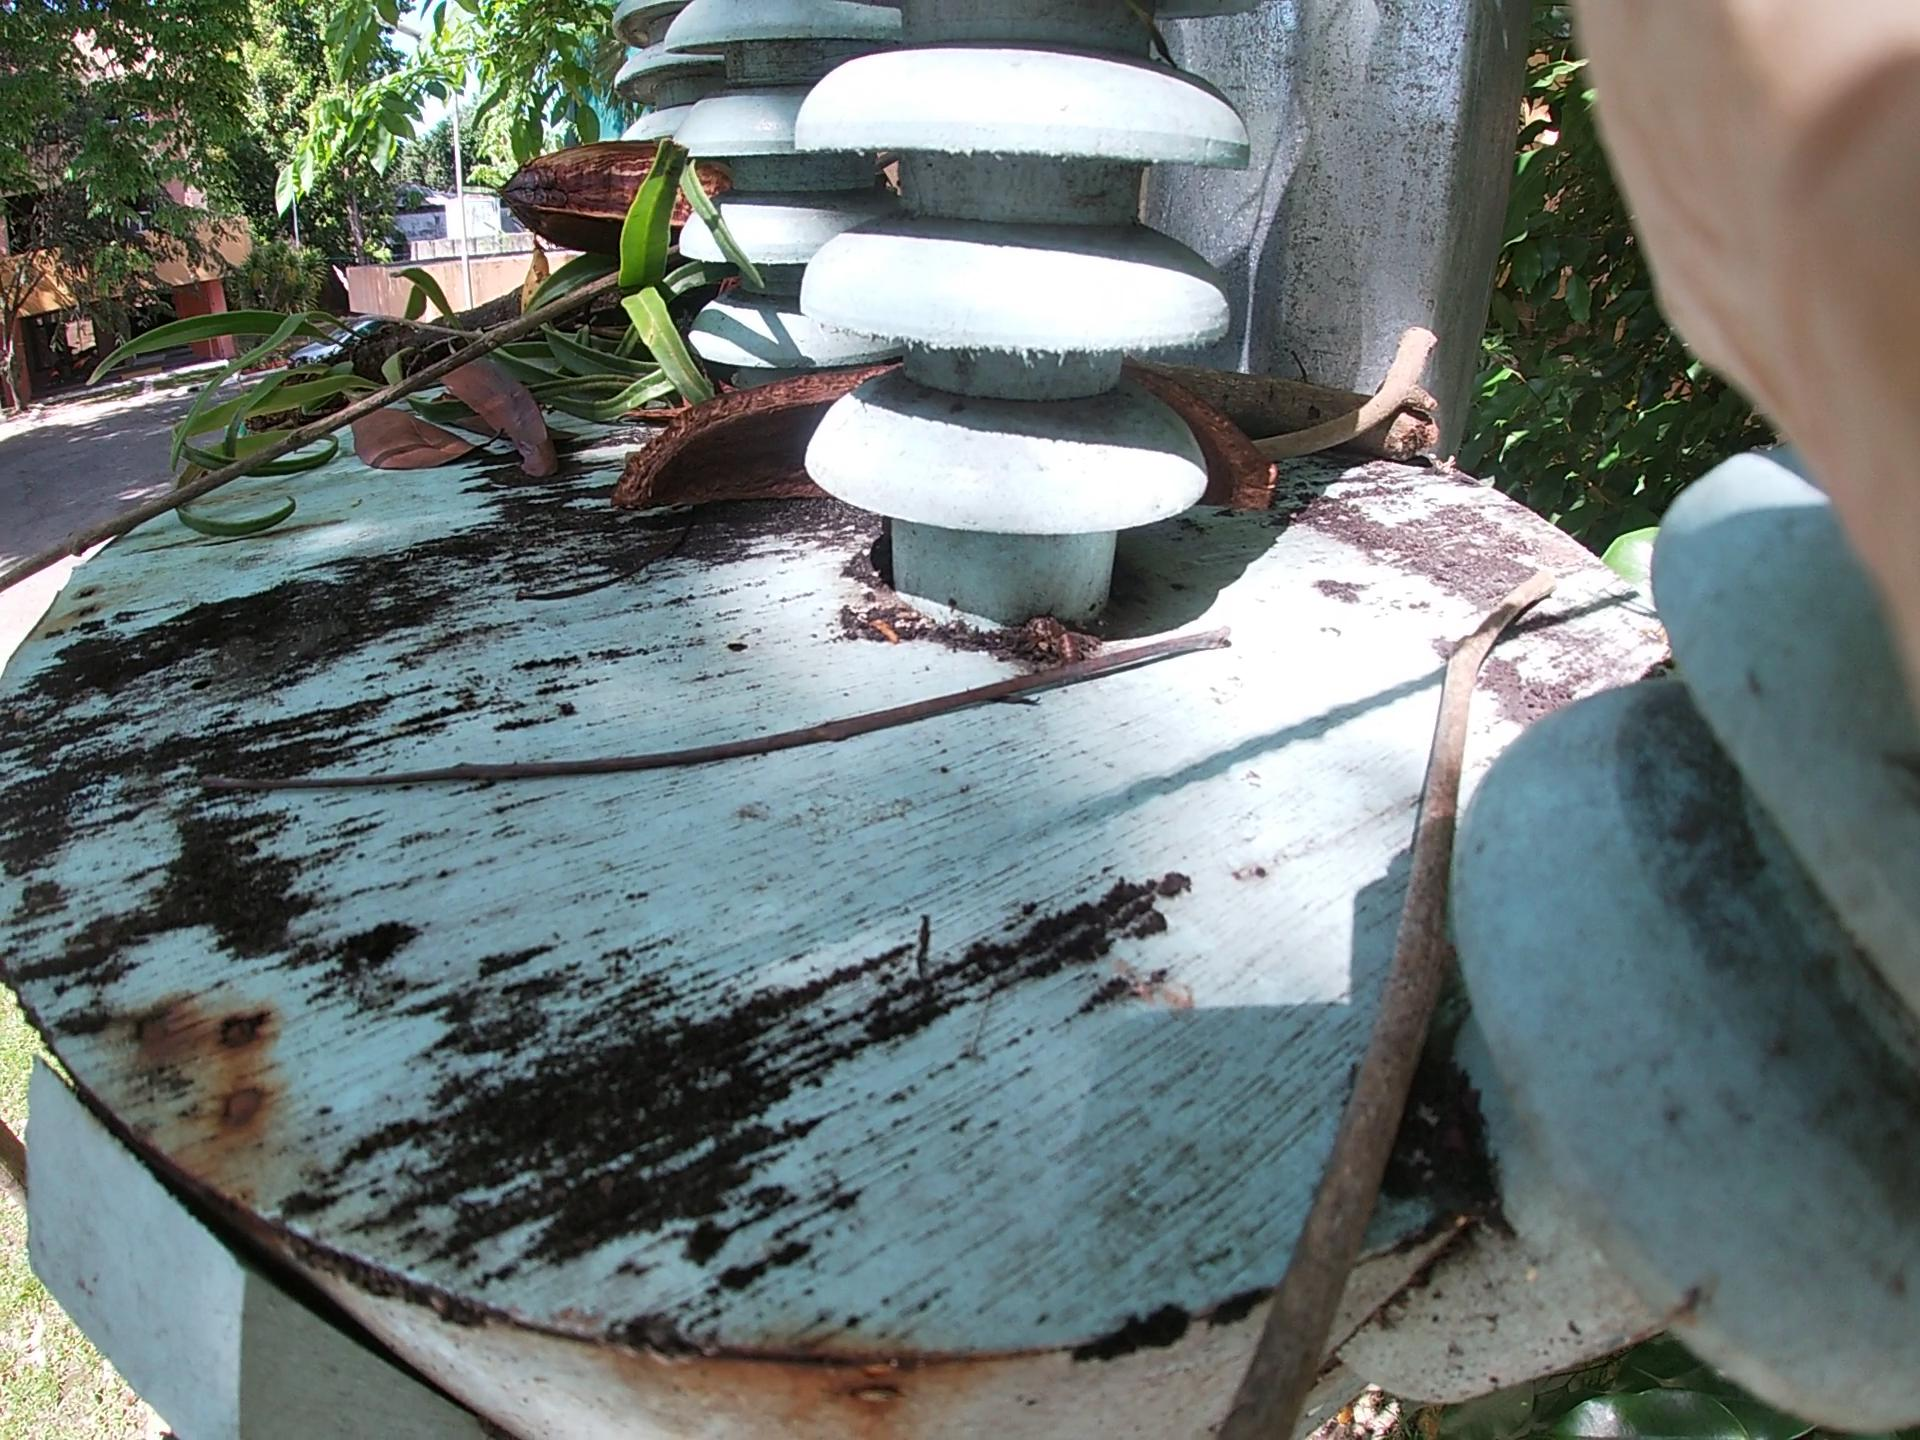branch with leaves: (225, 157, 971, 570)
leaf: (337, 277, 525, 484)
mahogany fruit: (497, 71, 900, 304), (618, 340, 989, 557)
tree branch: (73, 195, 698, 557), (333, 644, 1279, 826), (1373, 517, 1538, 1322), (1079, 256, 1463, 573)
